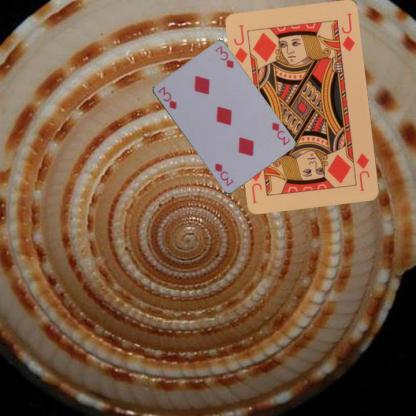3d: (155, 84, 178, 110), (269, 119, 291, 146)
Jd: (231, 22, 250, 65), (354, 151, 371, 193)
